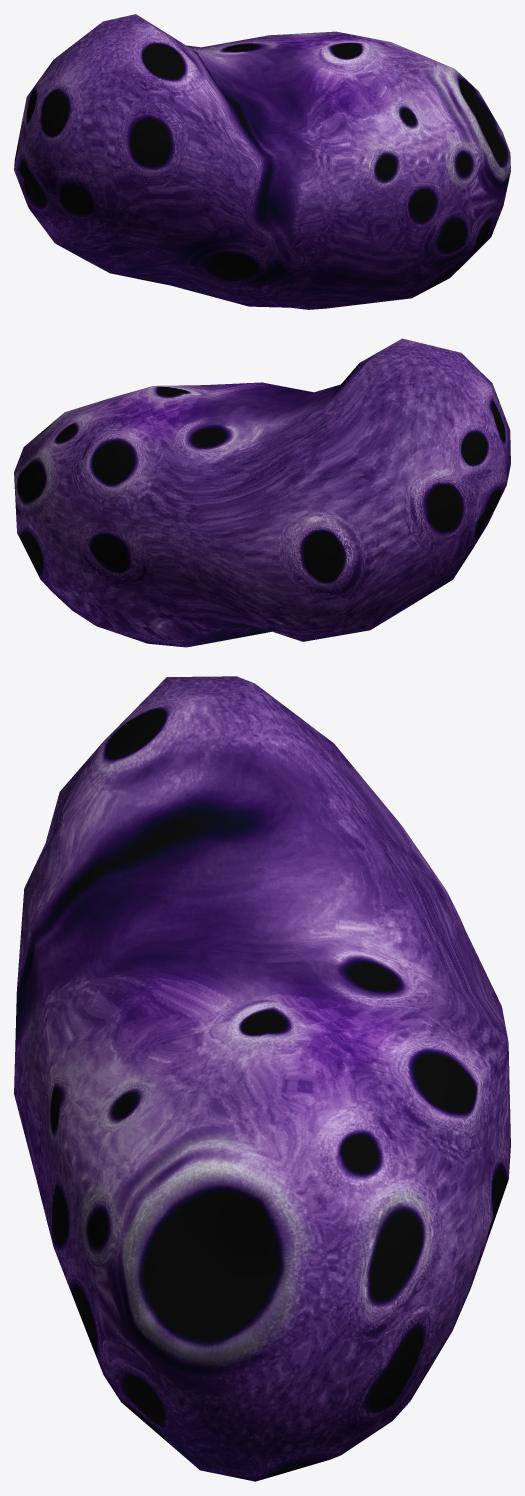
The model's file is ASTROID_3.FBX.
The picture shows the model from 3 angles, top to bottom: view 1: azimuth 30°, elevation 25°; view 2: azimuth 150°, elevation 25°; view 3: azimuth 270°, elevation 25°; orthographic projection. The views are drawn at different scales.
Parts seen in each view (by area): view 1: default; view 2: default; view 3: default.
Part boxes in pixels (x1,y1,x2,y2): default: (14,14,510,309); default: (14,338,510,647); default: (14,676,510,1481).
Size of the model in its own units: 17.57 by 11.78 by 9.61.
Materials: 1 (1 with a texture image).
